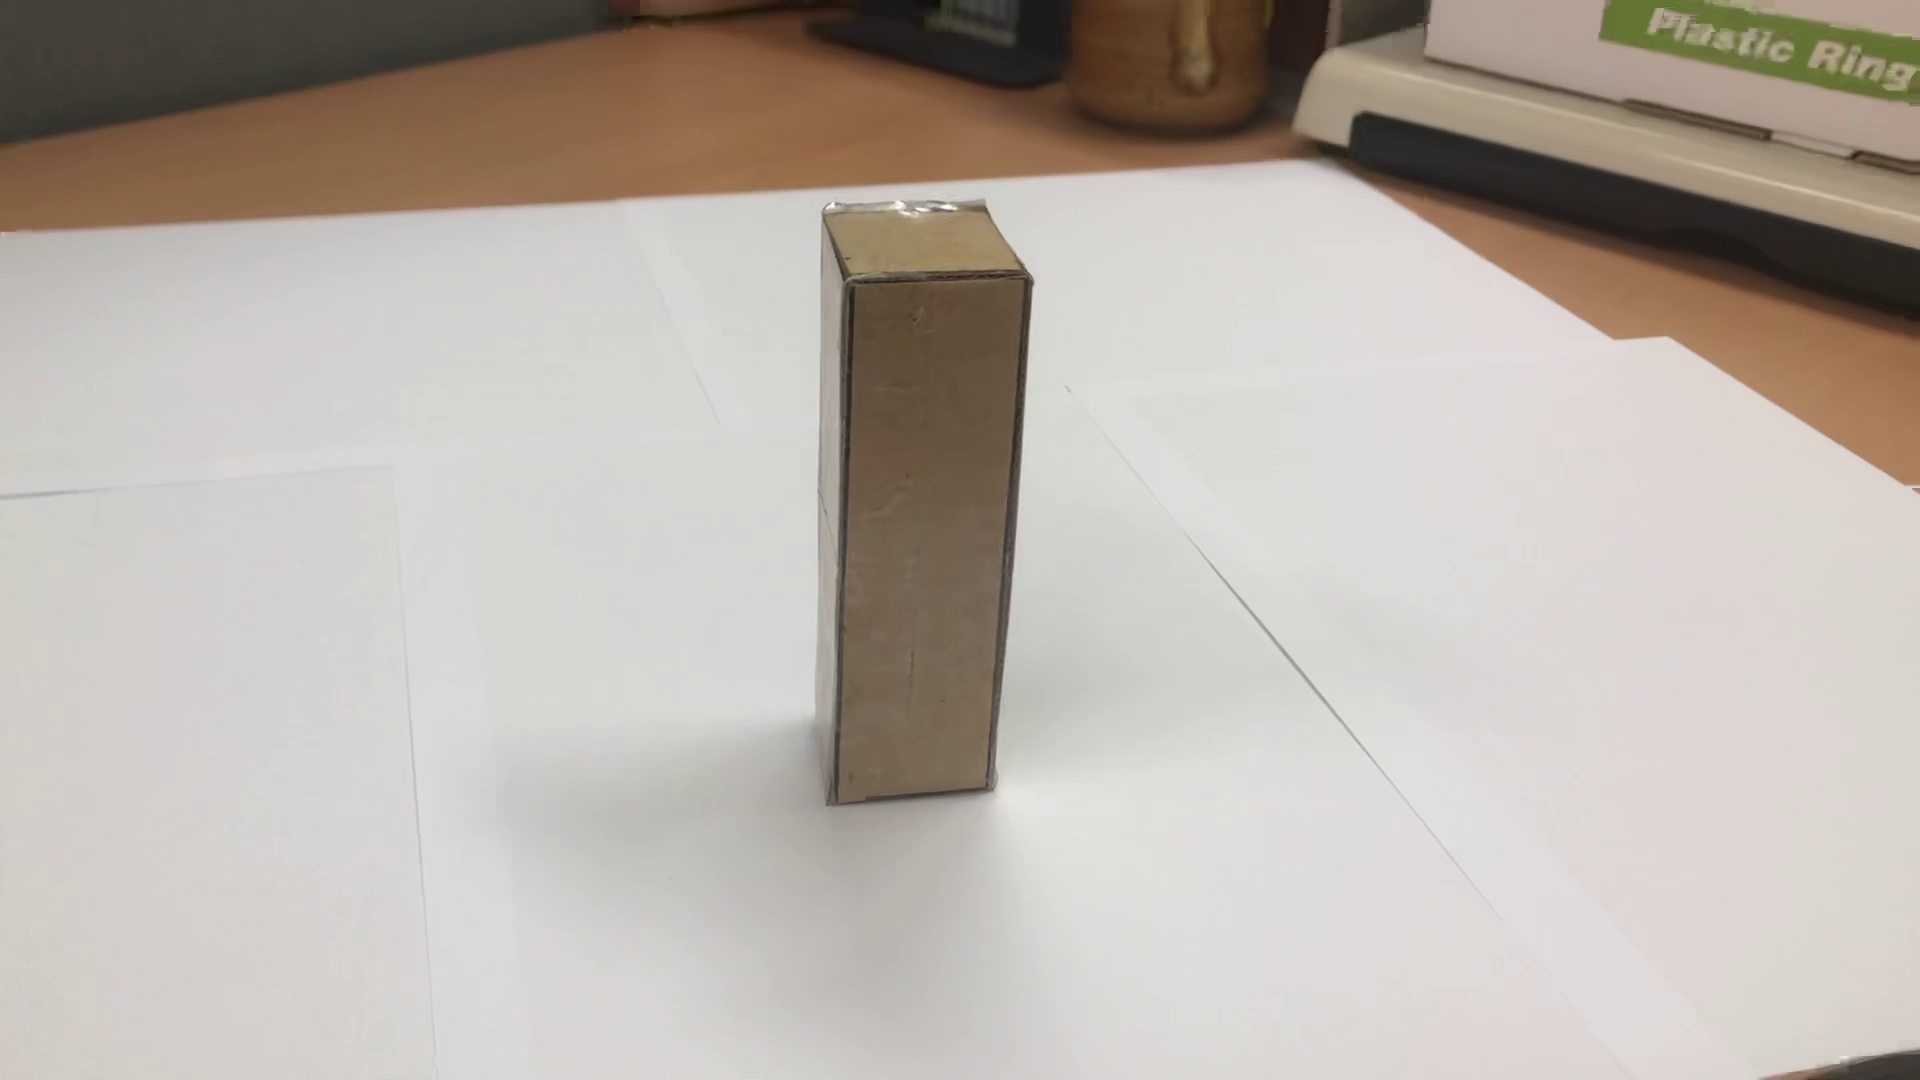box: (800, 198, 1051, 831)
